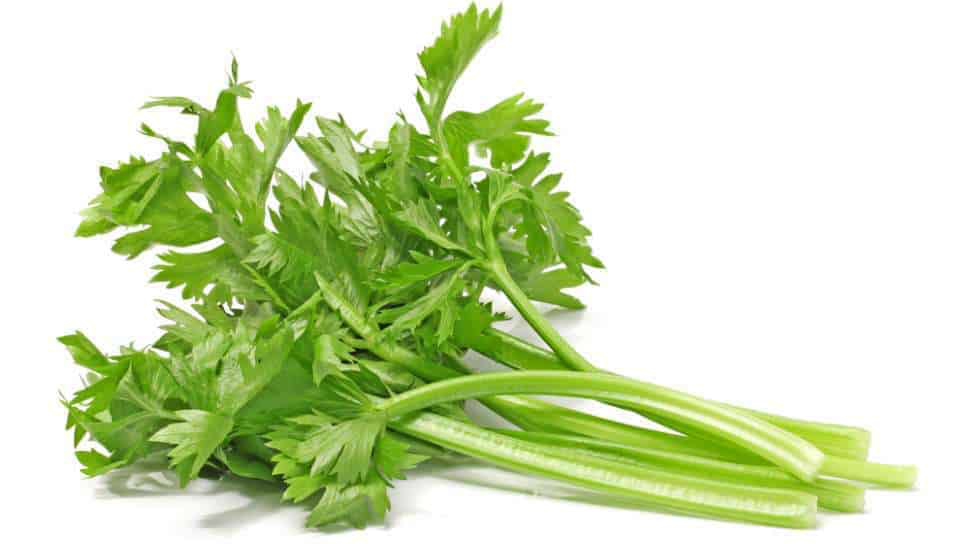Seledri: (89, 101, 935, 538)
